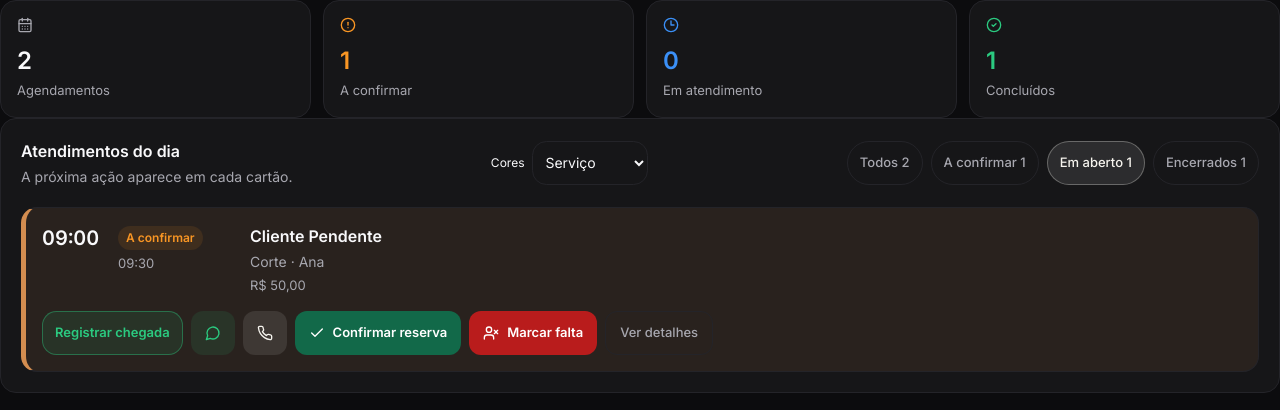
Test: HojeView › filtra encerrados sem esconder o total do dia
Click the button "Encerrados 1": (1206, 162) [1153,140,1259,184]
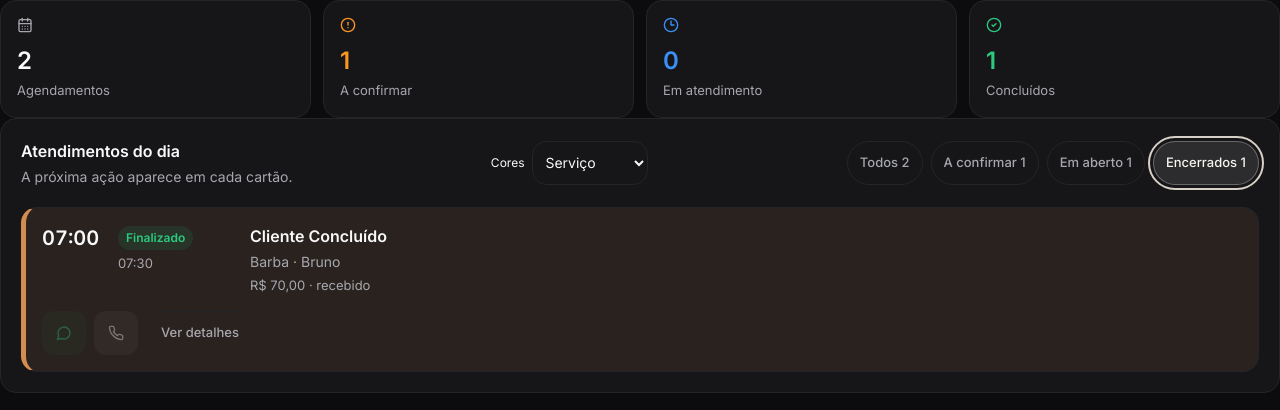
Expected: the text "Agendamentos" is shown, [17,82,110,98]
Now the text "Cliente Concluído" is shown, box [250,226,387,246]
Now the text "Cliente Pendente" is gone
